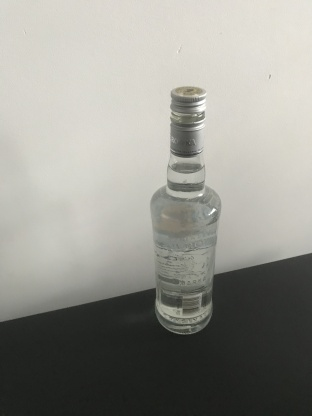nakretka: (169, 84, 207, 158)
